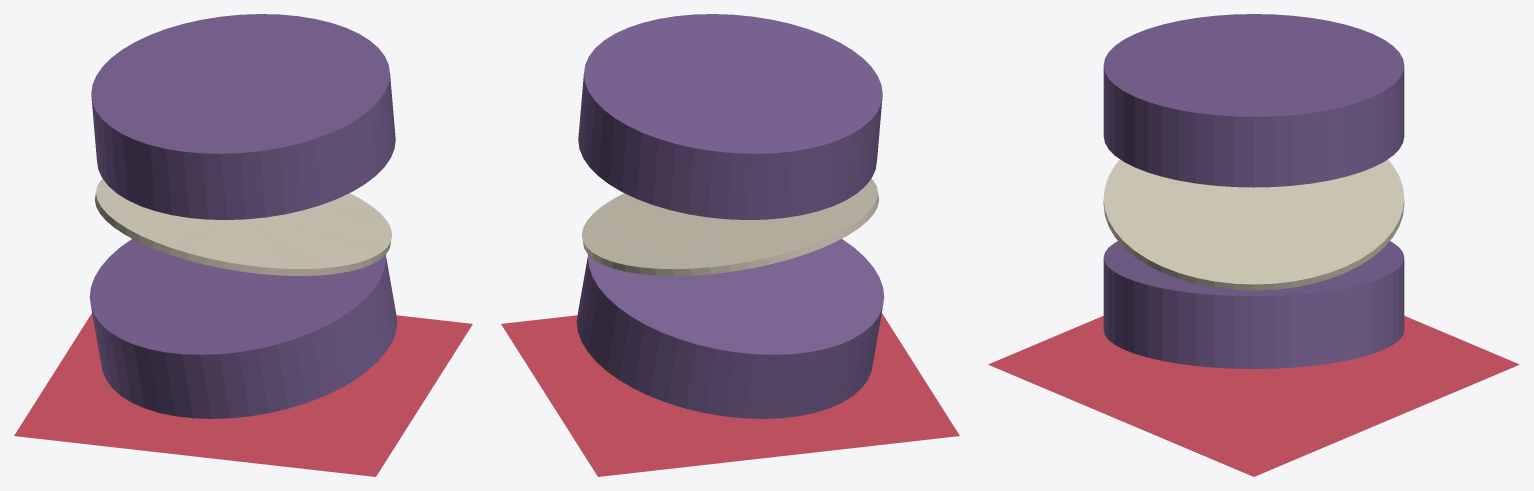
Rendered from UVU.glb.
3 views of the same model, side by side, from view 1: azimuth 30°, elevation 25°; view 2: azimuth 150°, elevation 25°; view 3: azimuth 270°, elevation 25° (orthographic).
Parts seen in each view (by area): view 1: Mesh_Mesh_head_geo.001_lambert2SG.001; view 2: Mesh_Mesh_head_geo.001_lambert2SG.001; view 3: Mesh_Mesh_head_geo.001_lambert2SG.001.
Part boxes in pixels (x1=…): Mesh_Mesh_head_geo.001_lambert2SG.001: x1=14, y1=14, x2=472, y2=476; Mesh_Mesh_head_geo.001_lambert2SG.001: x1=501, y1=14, x2=959, y2=476; Mesh_Mesh_head_geo.001_lambert2SG.001: x1=988, y1=14, x2=1519, y2=476.
Bounding box in the file's own units: 0.0354 × 0.0227 × 0.0354.
